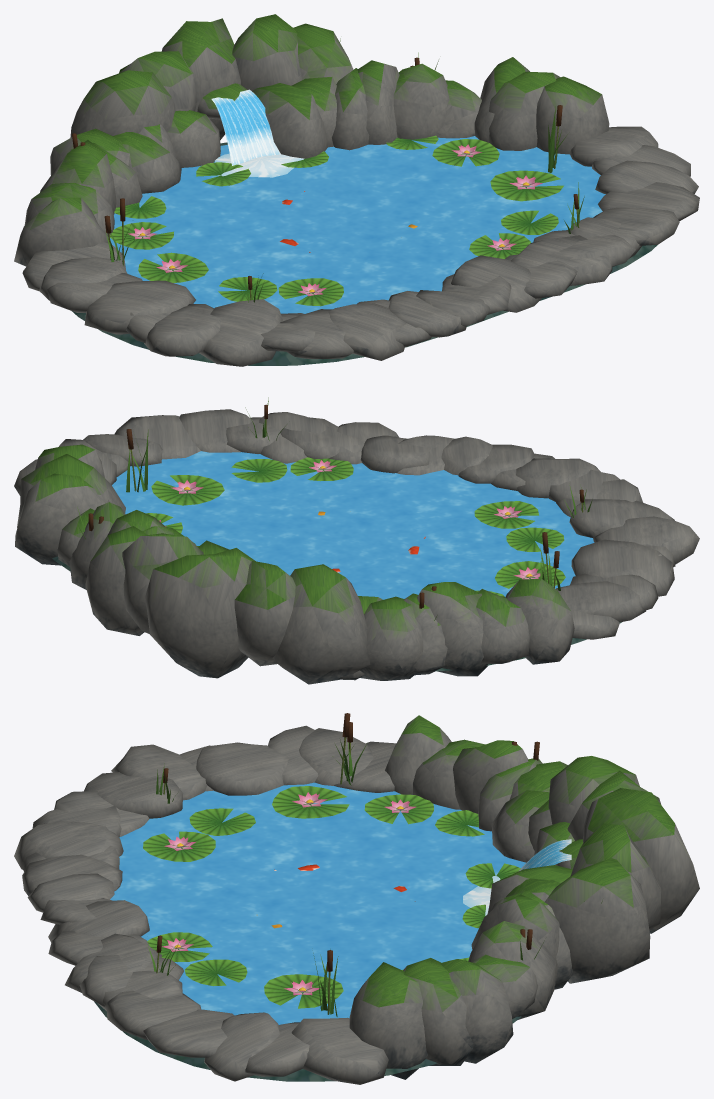
File: RockeryKoiPond.fbx
3 renders of one model, top to bottom at view 1: azimuth 30°, elevation 25°; view 2: azimuth 150°, elevation 25°; view 3: azimuth 270°, elevation 25°, orthographic. The views are drawn at different scales.
Visible parts, largest first — view 1: Pond_Rocks.002, Pond_Water.002, Pond_Flora.002, Pond_Waterfall.001, Pond_Bed.002; view 2: Pond_Rocks.002, Pond_Water.002, Pond_Flora.002; view 3: Pond_Rocks.002, Pond_Water.002, Pond_Flora.002, Pond_Bed.002, Pond_Waterfall.001.
Boxes of the visible parts, left/top/right/bottom form: Pond_Rocks.002: left=14, top=14, right=699, bottom=366; Pond_Water.002: left=110, top=136, right=605, bottom=313; Pond_Flora.002: left=72, top=38, right=584, bottom=306; Pond_Waterfall.001: left=211, top=89, right=304, bottom=177; Pond_Bed.002: left=72, top=142, right=657, bottom=365; Pond_Rocks.002: left=14, top=409, right=699, bottom=684; Pond_Water.002: left=112, top=451, right=594, bottom=599; Pond_Flora.002: left=75, top=397, right=592, bottom=620; Pond_Rocks.002: left=14, top=715, right=699, bottom=1084; Pond_Water.002: left=110, top=782, right=525, bottom=1024; Pond_Flora.002: left=143, top=713, right=602, bottom=1016; Pond_Bed.002: left=94, top=1001, right=521, bottom=1081; Pond_Waterfall.001: left=463, top=839, right=571, bottom=915.
Bounding box in the file's own units: 32.14 × 6.45 × 28.05.
Materials: 5 (5 with a texture image).
